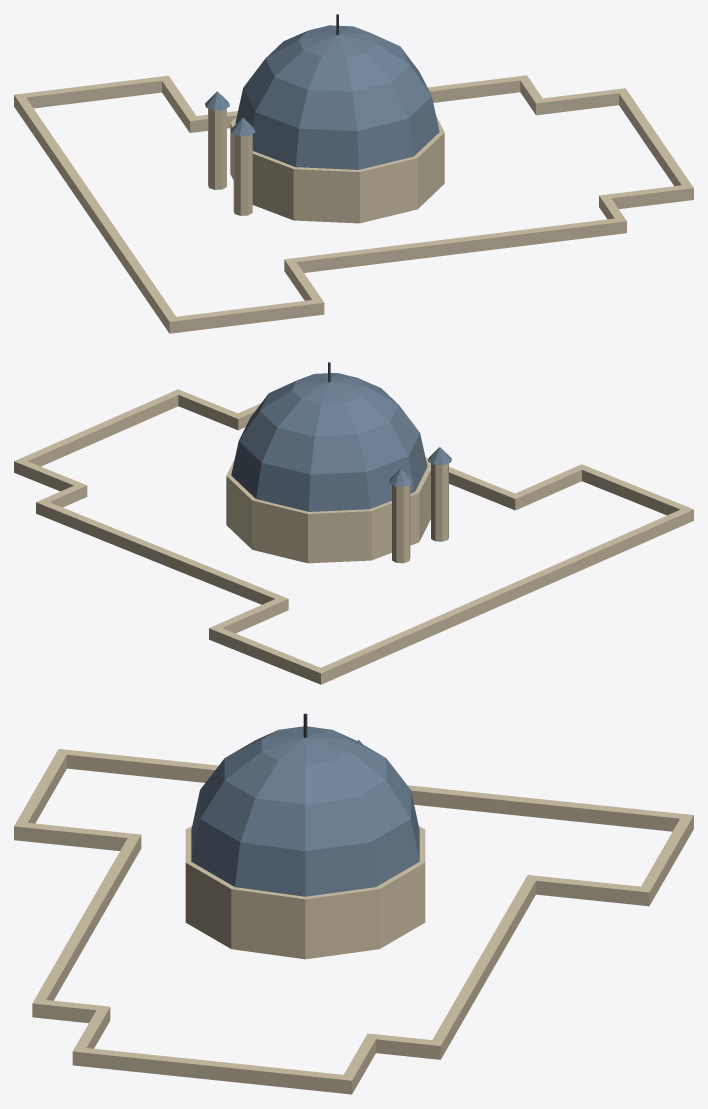
File: otag.glb
The picture shows the model from 3 angles, top to bottom: view 1: azimuth 30°, elevation 25°; view 2: azimuth 150°, elevation 25°; view 3: azimuth 270°, elevation 25°; orthographic projection. The views are drawn at different scales.
Parts seen in each view (by area): view 1: otag; view 2: otag; view 3: otag.
Boxes of the visible parts, bbox=[...] form: otag: bbox=[14, 14, 693, 333]; otag: bbox=[14, 362, 693, 684]; otag: bbox=[14, 713, 693, 1094].
Bounding box in the file's own units: 30.82 × 8.86 × 26.69.
